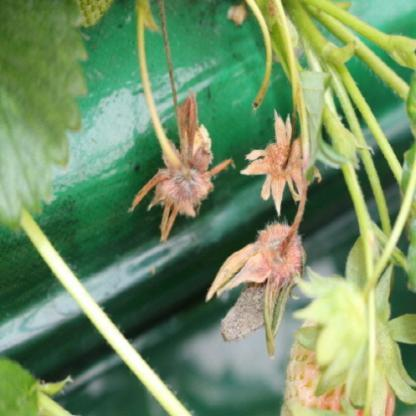Strawberry_Gray_Mold: (130, 92, 235, 245), (206, 222, 306, 355)
